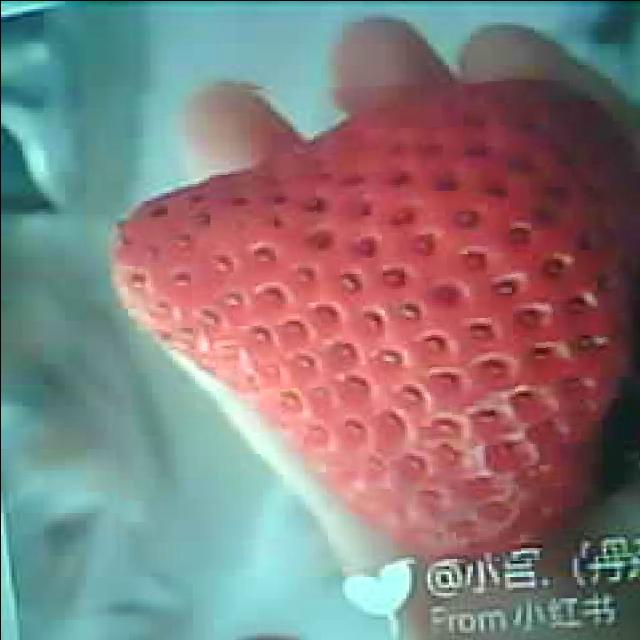strawberry: (107, 80, 637, 569)
